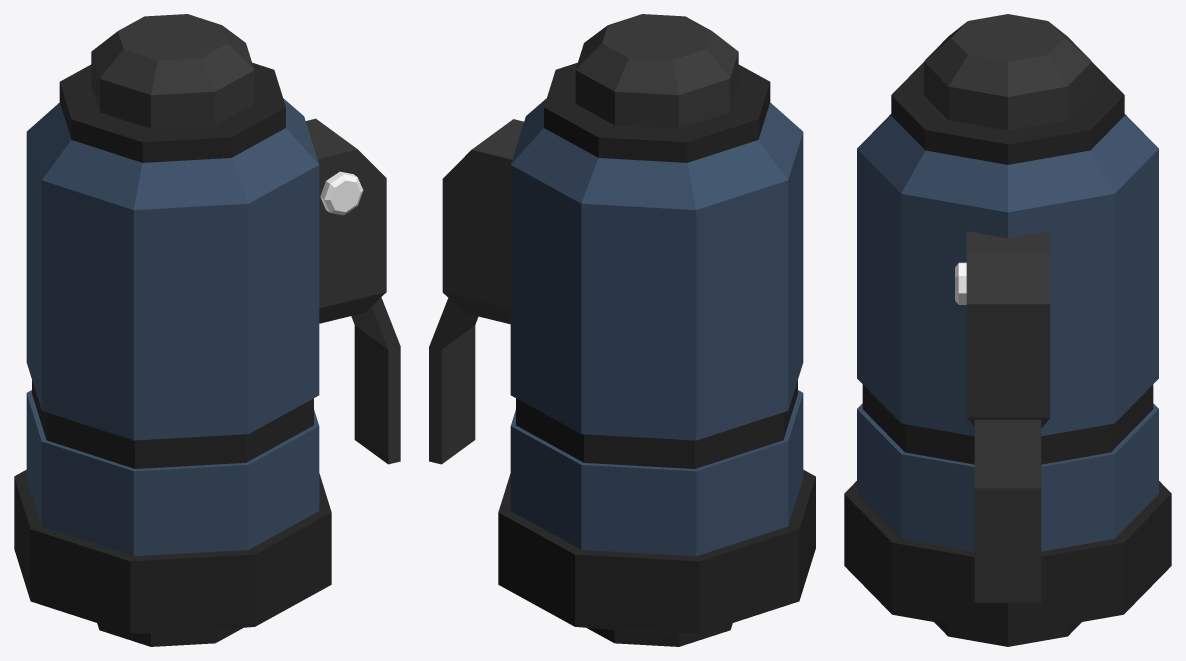
The model's file is Grenade_C_V1.FBX.
3 views of the same model, side by side, from view 1: azimuth 30°, elevation 25°; view 2: azimuth 150°, elevation 25°; view 3: azimuth 270°, elevation 25° (orthographic).
Parts seen in each view (by area): view 1: Grenade_C_V1; view 2: Grenade_C_V1; view 3: Grenade_C_V1.
Part boxes in pixels (x1,y1,x2,y2): Grenade_C_V1: (14, 14, 400, 646); Grenade_C_V1: (429, 14, 815, 646); Grenade_C_V1: (844, 14, 1171, 646).
Size of the model in its own units: 33.13 by 51.51 by 26.68.
